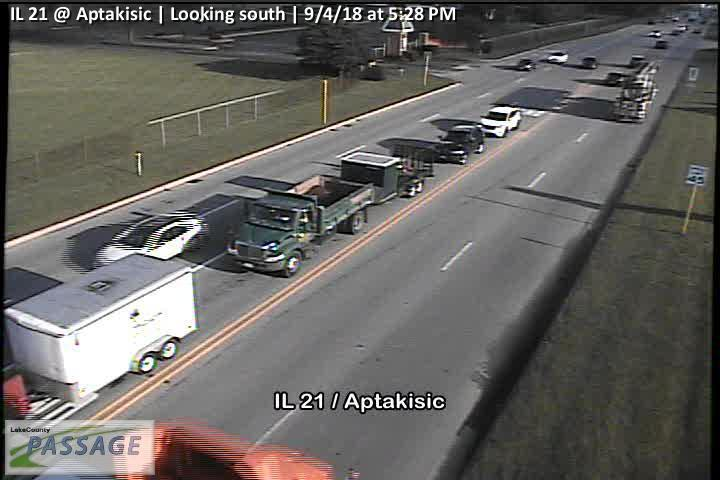SUV: (478, 103, 522, 136)
Sedan: (93, 212, 211, 267), (440, 124, 484, 165), (547, 51, 568, 63), (583, 55, 598, 69), (519, 59, 535, 70)
Truck: (1, 252, 202, 416), (228, 144, 427, 278), (610, 71, 657, 123)
